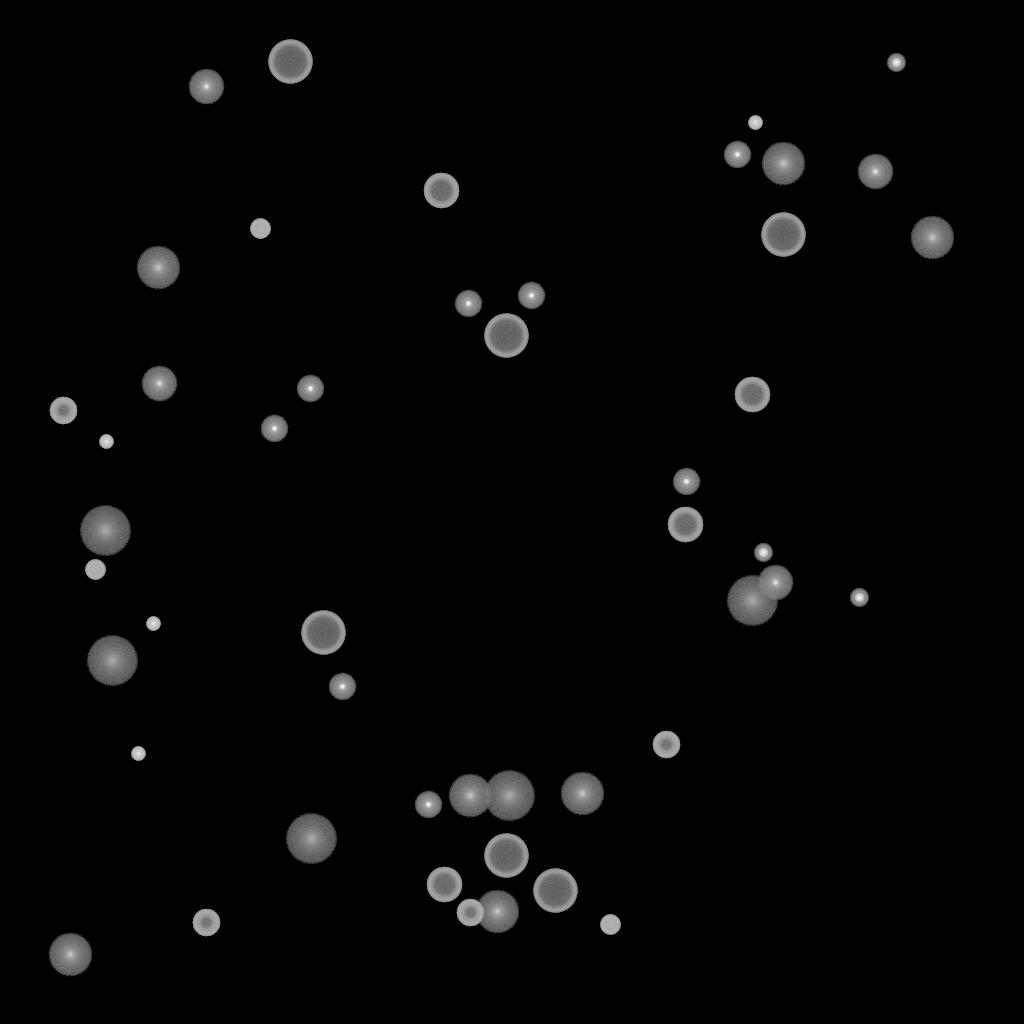depth:-10: (672, 468, 700, 496), (723, 141, 751, 169), (517, 282, 545, 310), (414, 791, 442, 819), (260, 415, 288, 443), (328, 673, 356, 701), (296, 375, 324, 403), (454, 290, 482, 318)
depth:-20: (850, 589, 868, 607), (887, 54, 905, 72), (754, 544, 772, 562)
depth:-30: (146, 617, 160, 631), (748, 116, 762, 130), (99, 435, 113, 449), (131, 747, 145, 761)
depth:-40: (250, 219, 270, 239), (600, 915, 620, 935), (85, 560, 105, 580)
depth:-50: (652, 731, 680, 759), (49, 397, 77, 425), (192, 909, 220, 937), (456, 899, 484, 927)
depth:-60: (734, 377, 770, 413), (667, 507, 703, 543), (423, 173, 459, 209), (426, 867, 462, 903)
depth:-70: (301, 611, 345, 655), (484, 314, 528, 358), (761, 213, 805, 257), (484, 834, 528, 878), (533, 869, 577, 913), (268, 40, 312, 84)
depth:0: (857, 154, 893, 190), (141, 366, 177, 402), (188, 69, 224, 105), (757, 565, 793, 601)
depth:10: (560, 772, 604, 816), (761, 142, 805, 186), (136, 246, 180, 290), (910, 216, 954, 260), (475, 890, 519, 934), (48, 933, 92, 977), (448, 774, 492, 818)
depth:20: (285, 814, 337, 864), (86, 636, 138, 686), (726, 576, 778, 626), (483, 771, 535, 821), (79, 506, 131, 556)
